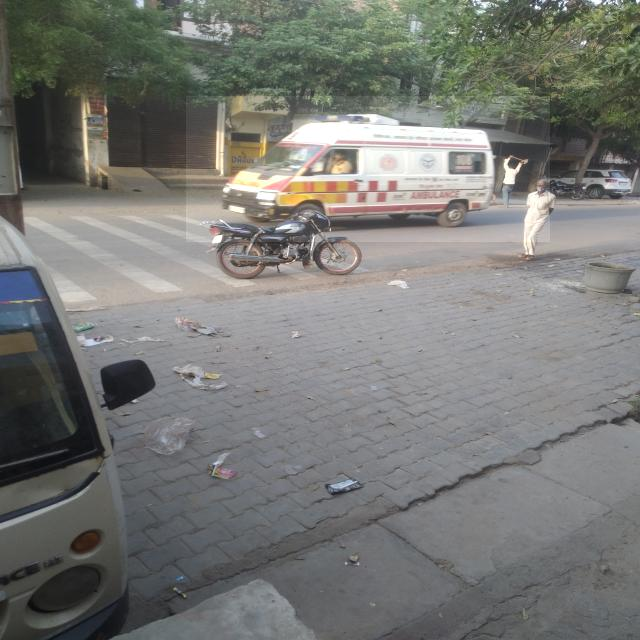Travller: (186, 96, 550, 242)
